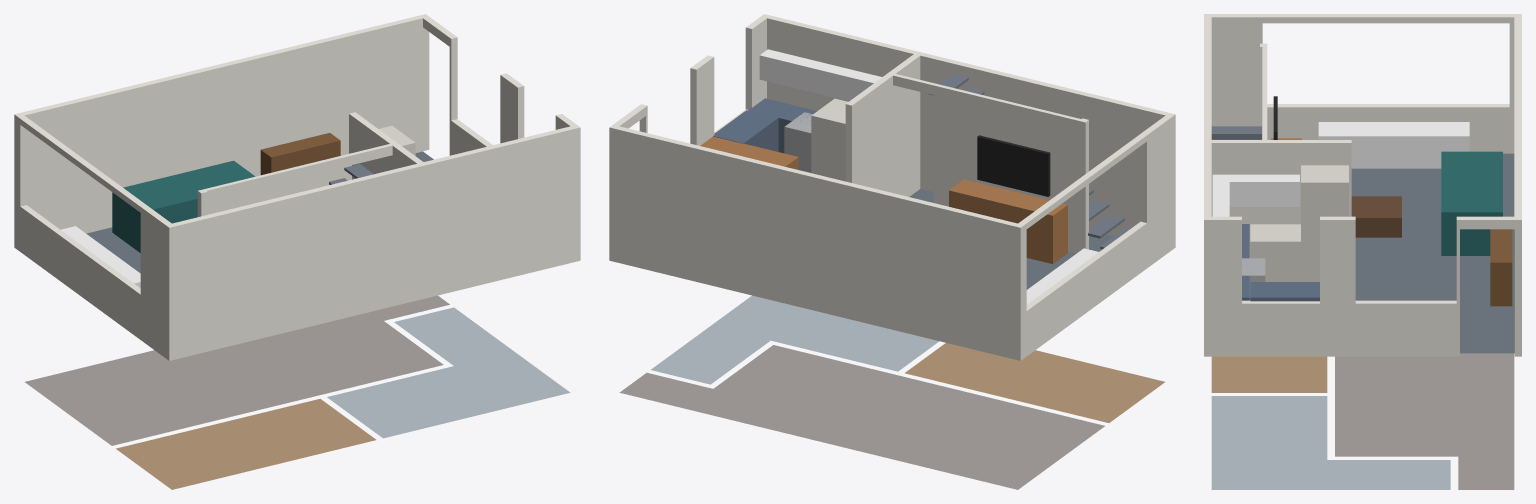
Rendered from townhouse-Cw7Yguyc.glb.
3 renders of one model, left to right at view 1: azimuth 30°, elevation 25°; view 2: azimuth 150°, elevation 25°; view 3: azimuth 270°, elevation 25°, orthographic. The views are drawn at different scales.
Parts seen in each view (by area): view 1: First Floor — Living / Dining / Kitchen walls, Ground Floor floors, First Floor — Living / Dining / Kitchen furniture, First Floor — Living / Dining / Kitchen floors; view 2: First Floor — Living / Dining / Kitchen walls, Ground Floor floors, First Floor — Living / Dining / Kitchen furniture, First Floor — Living / Dining / Kitchen stairs, First Floor — Living / Dining / Kitchen floors; view 3: First Floor — Living / Dining / Kitchen walls, Ground Floor floors, First Floor — Living / Dining / Kitchen furniture, First Floor — Living / Dining / Kitchen floors, First Floor — Living / Dining / Kitchen stairs.
Part boxes in pixels (<box>): First Floor — Living / Dining / Kitchen walls: <box>14,14,580,360</box>; Ground Floor floors: <box>25,295,570,489</box>; First Floor — Living / Dining / Kitchen furniture: <box>61,125,415,287</box>; First Floor — Living / Dining / Kitchen floors: <box>86,151,433,273</box>; First Floor — Living / Dining / Kitchen walls: <box>609,14,1175,360</box>; Ground Floor floors: <box>619,295,1164,489</box>; First Floor — Living / Dining / Kitchen furniture: <box>700,49,1098,304</box>; First Floor — Living / Dining / Kitchen stairs: <box>928,74,1128,249</box>; First Floor — Living / Dining / Kitchen floors: <box>909,189,1113,289</box>; First Floor — Living / Dining / Kitchen walls: <box>1204,14,1521,356</box>; Ground Floor floors: <box>1211,353,1514,489</box>; First Floor — Living / Dining / Kitchen furniture: <box>1212,96,1512,306</box>; First Floor — Living / Dining / Kitchen floors: <box>1351,153,1514,353</box>; First Floor — Living / Dining / Kitchen stairs: <box>1211,126,1261,139</box>.
Bounding box in the file's own units: 7.11 × 4.4 × 4.64.
